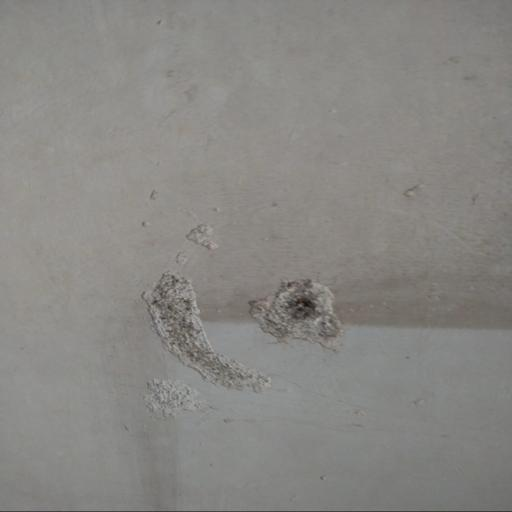stain: (83, 168, 512, 379)
